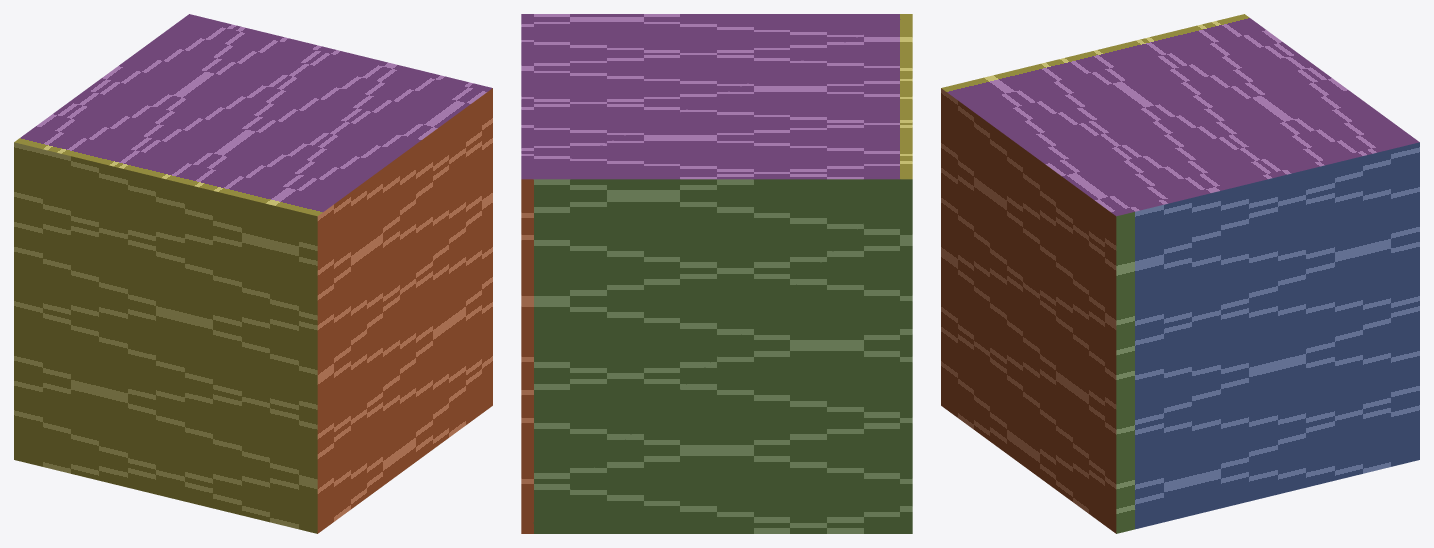
File: rune_crate_textured.glb
3 renders of one model, left to right at view 1: azimuth 30°, elevation 25°; view 2: azimuth 150°, elevation 25°; view 3: azimuth 270°, elevation 25°, orthographic. The views are drawn at different scales.
Visible parts, largest first — view 1: crate; view 2: crate; view 3: crate.
Boxes of the visible parts, box(x1,y1,x2,y2) form: crate: box(14, 14, 492, 533); crate: box(521, 14, 912, 533); crate: box(941, 14, 1419, 533).
Size of the model in its own units: 2.73 by 2 by 2.73.
Materials: 1 (1 with a texture image).
